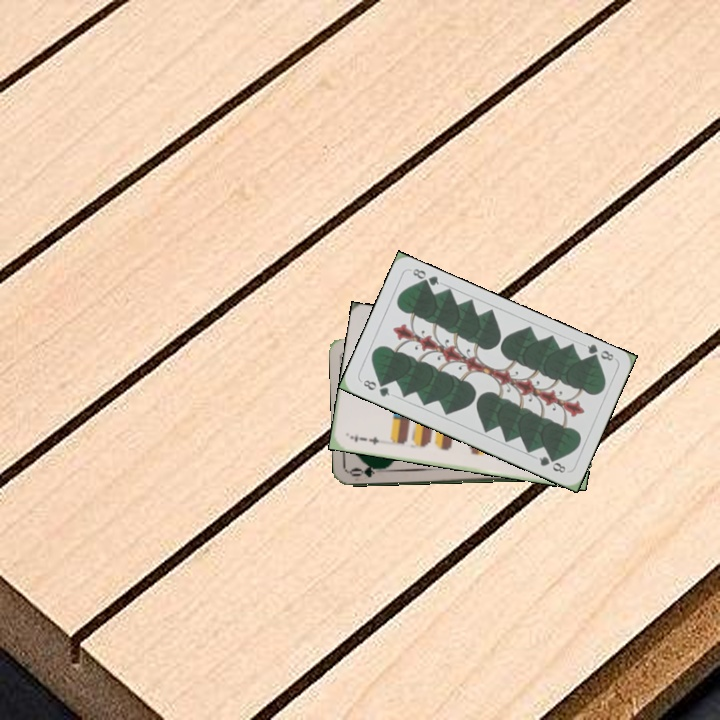E7: (346, 430, 382, 447)
G8: (583, 340, 616, 365), (359, 376, 392, 399)
GO: (347, 462, 388, 480)
